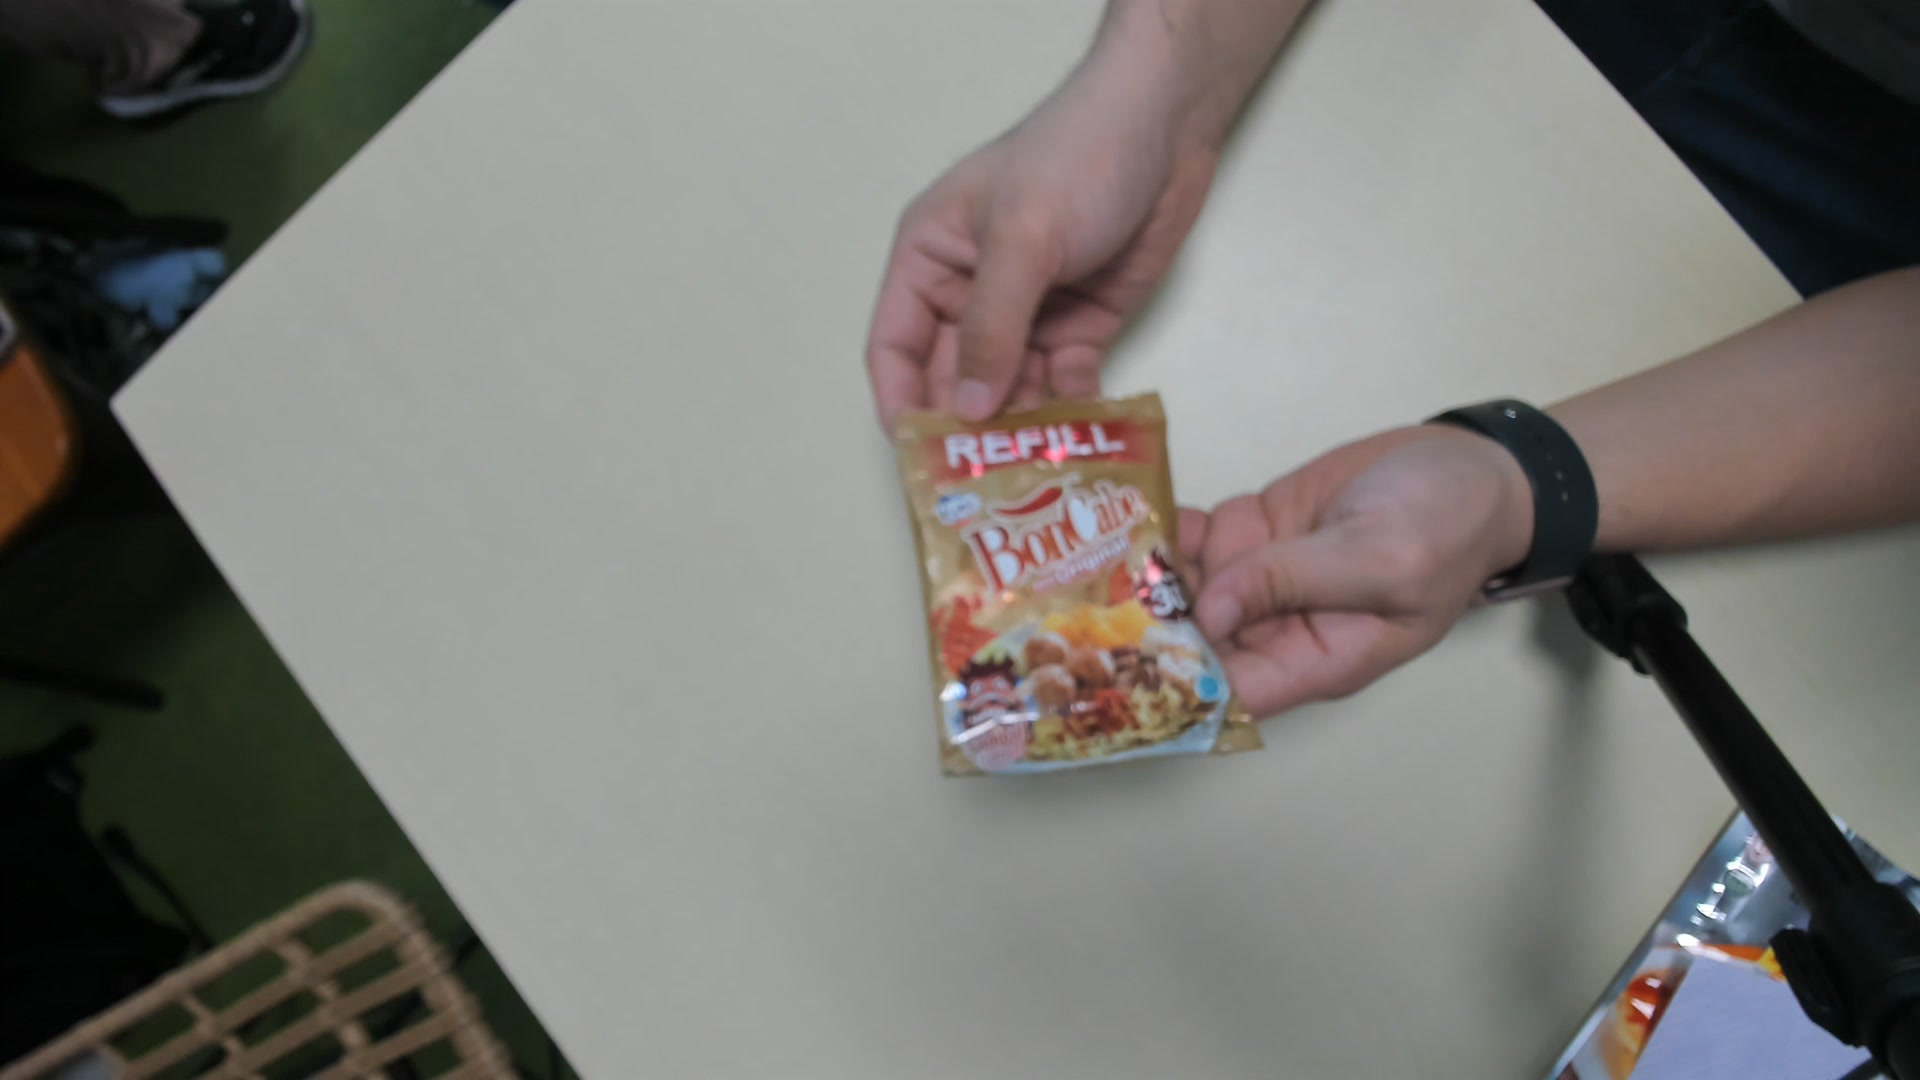CurryPastePowderSauce_0-99g_Halal_NonHealthy: (899, 393, 1269, 789)
